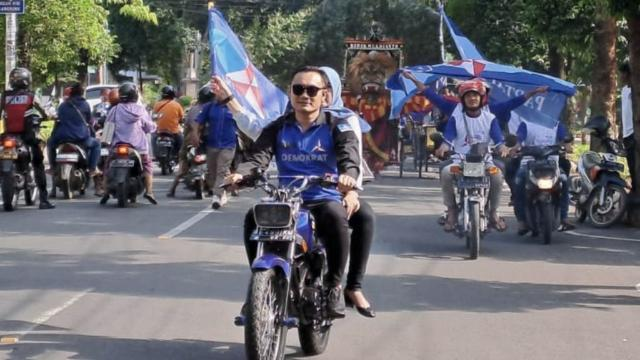helm: (458, 82, 489, 115), (11, 69, 34, 95), (120, 84, 141, 108), (100, 87, 120, 106), (161, 87, 177, 103)
motor: (222, 168, 353, 360), (430, 141, 511, 264), (515, 140, 577, 248), (578, 127, 635, 233), (102, 133, 150, 213), (2, 131, 42, 216), (52, 133, 94, 203)
non-helm: (290, 68, 328, 119)
